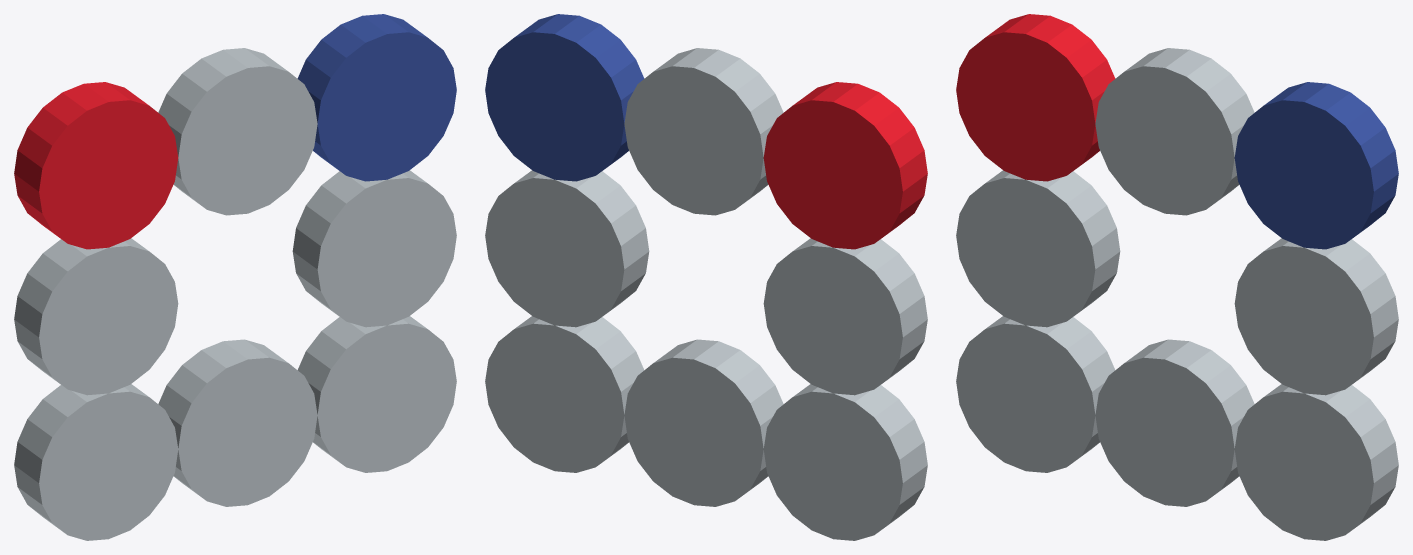
The model's file is tinker.obj.
3 views of the same model, side by side, from view 1: azimuth 30°, elevation 25°; view 2: azimuth 150°, elevation 25°; view 3: azimuth 330°, elevation 25° (orthographic).
Parts seen in each view (by area): view 1: group_0_12568524, group_0_15277357, group_0_3888547; view 2: group_0_12568524, group_0_15277357, group_0_3888547; view 3: group_0_12568524, group_0_3888547, group_0_15277357.
Part boxes in pixels (x1,y1,x2,y2): group_0_12568524: [14, 48, 456, 540]; group_0_15277357: [14, 82, 178, 249]; group_0_3888547: [297, 14, 456, 181]; group_0_12568524: [485, 48, 927, 540]; group_0_15277357: [763, 82, 927, 249]; group_0_3888547: [485, 14, 644, 181]; group_0_12568524: [956, 48, 1398, 540]; group_0_3888547: [1234, 82, 1398, 249]; group_0_15277357: [956, 14, 1115, 181].
Size of the model in its own units: 3 by 3 by 0.31.
